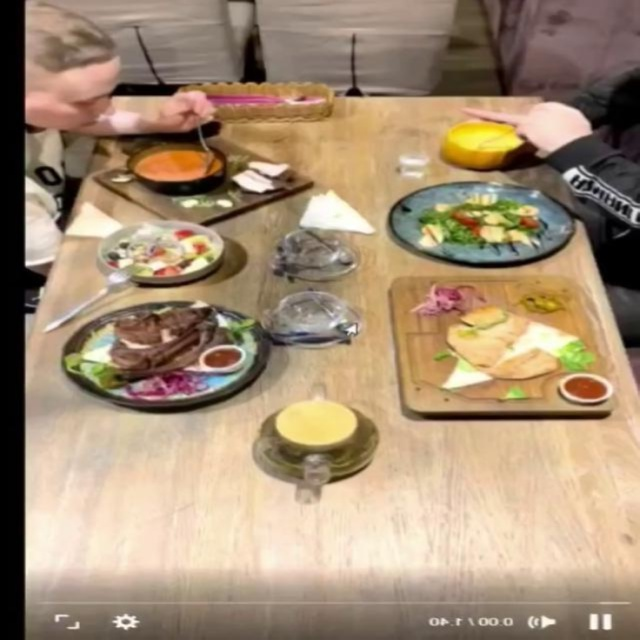meat: (401, 279, 612, 415), (61, 301, 273, 409)
salad: (390, 181, 578, 266), (97, 220, 227, 285)
soup: (88, 134, 316, 226), (442, 122, 526, 170)
tea: (236, 373, 392, 492)
